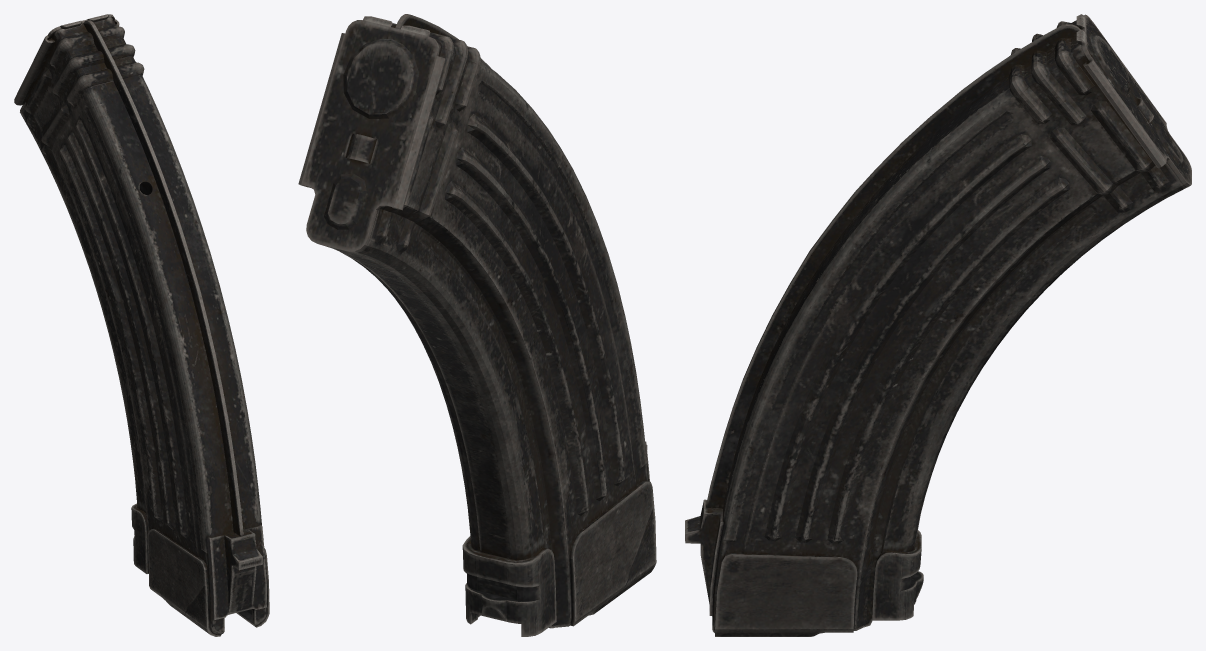
3 renders of one model, left to right at view 1: azimuth 30°, elevation 25°; view 2: azimuth 150°, elevation 25°; view 3: azimuth 270°, elevation 25°, orthographic. The views are drawn at different scales.
Parts seen in each view (by area): view 1: TW_59d625f086f774661516605d_PZ_Import; view 2: TW_59d625f086f774661516605d_PZ_Import; view 3: TW_59d625f086f774661516605d_PZ_Import.
Boxes of the visible parts, box(x1,y1,x2,y2) form: TW_59d625f086f774661516605d_PZ_Import: box(14, 14, 269, 636); TW_59d625f086f774661516605d_PZ_Import: box(298, 14, 656, 636); TW_59d625f086f774661516605d_PZ_Import: box(685, 14, 1191, 636).
Size of the model in its own units: 0.0177 by 0.0884 by 0.1153.
Materials: 1 (1 with a texture image).
